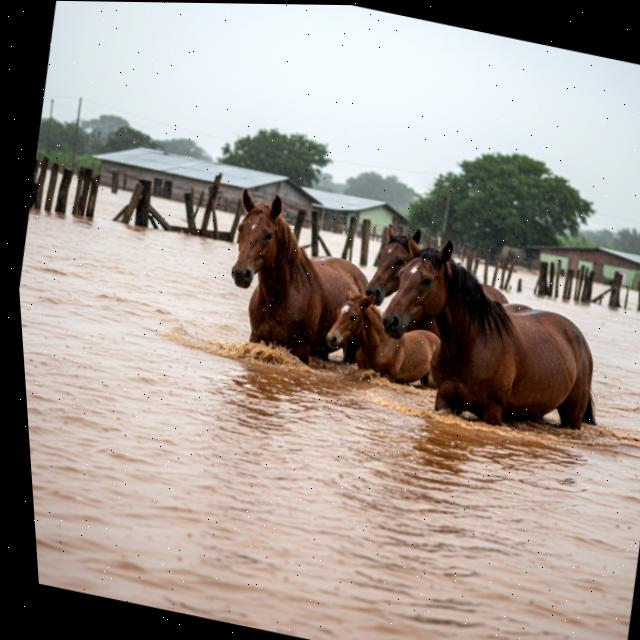horse: (355, 225, 637, 461), (201, 181, 399, 382), (344, 212, 553, 369), (317, 284, 469, 409)
